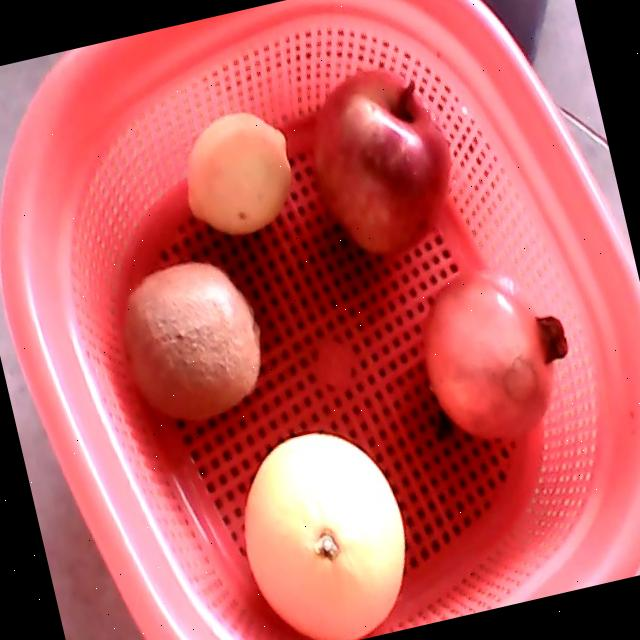apple: (314, 67, 451, 257)
kiwi: (122, 262, 261, 423)
lemon: (186, 112, 292, 234)
orange: (244, 433, 405, 640)
pomegranate: (420, 267, 569, 441)
